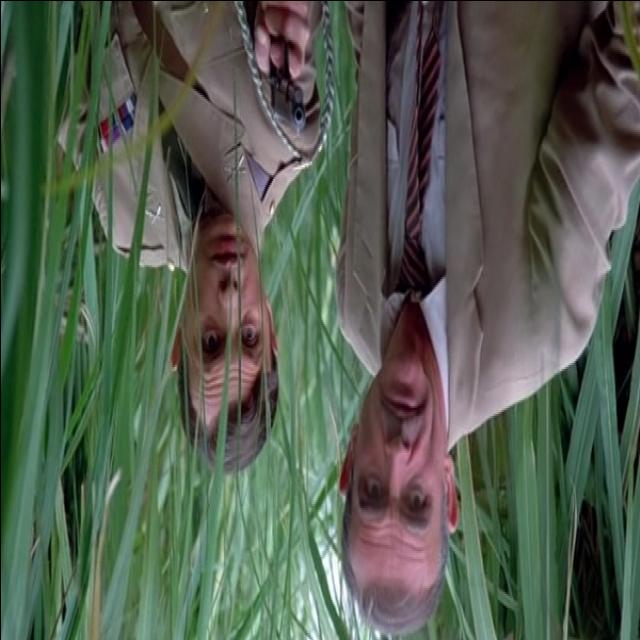weapons: (252, 11, 316, 146)
